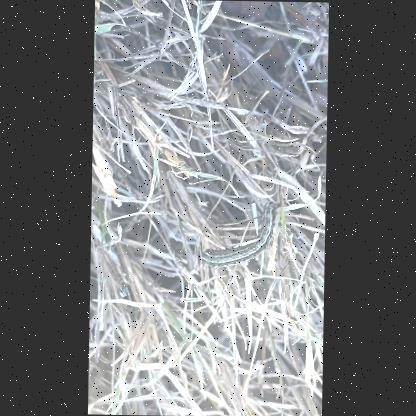Fall Armyworm Larvae: (198, 197, 278, 270)
